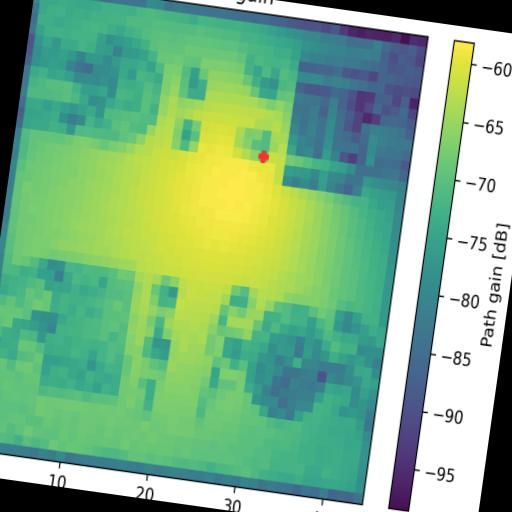Concrete: (283, 50, 380, 198)
Glass: (74, 30, 168, 148)
Metal: (242, 298, 352, 428)
Wood: (39, 262, 136, 394)
